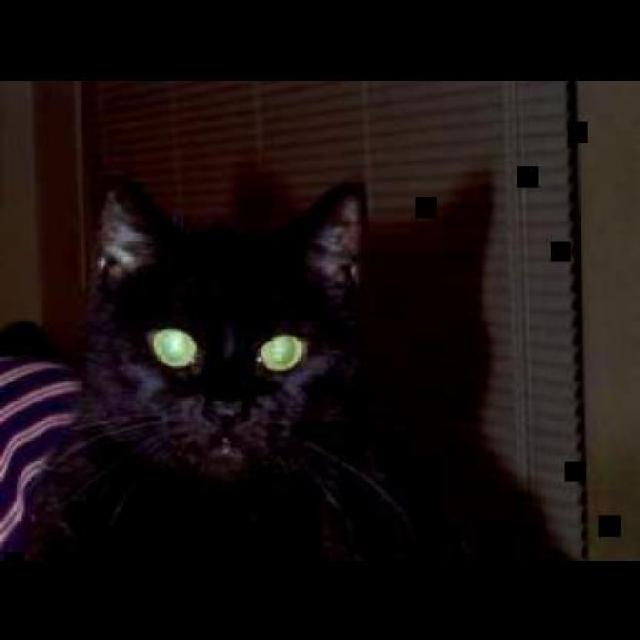unauthorized: (26, 170, 571, 572)
